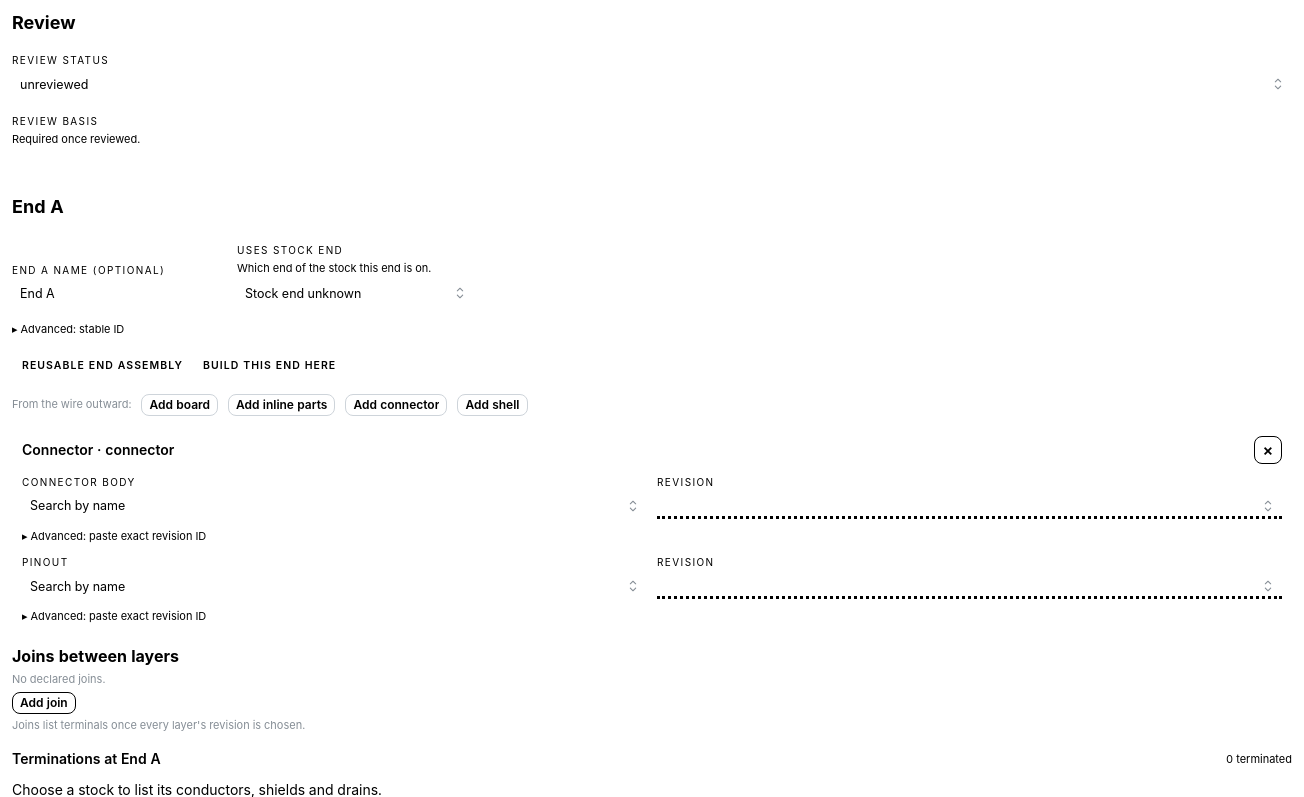
Test: cables: connector family filter narrows body choices by name, is marked and clearable
(page scrolled)
Press ArrowDown in the dropdown named "Endpoint 1 body definition", box [22,493,647,519]
(page scrolled)
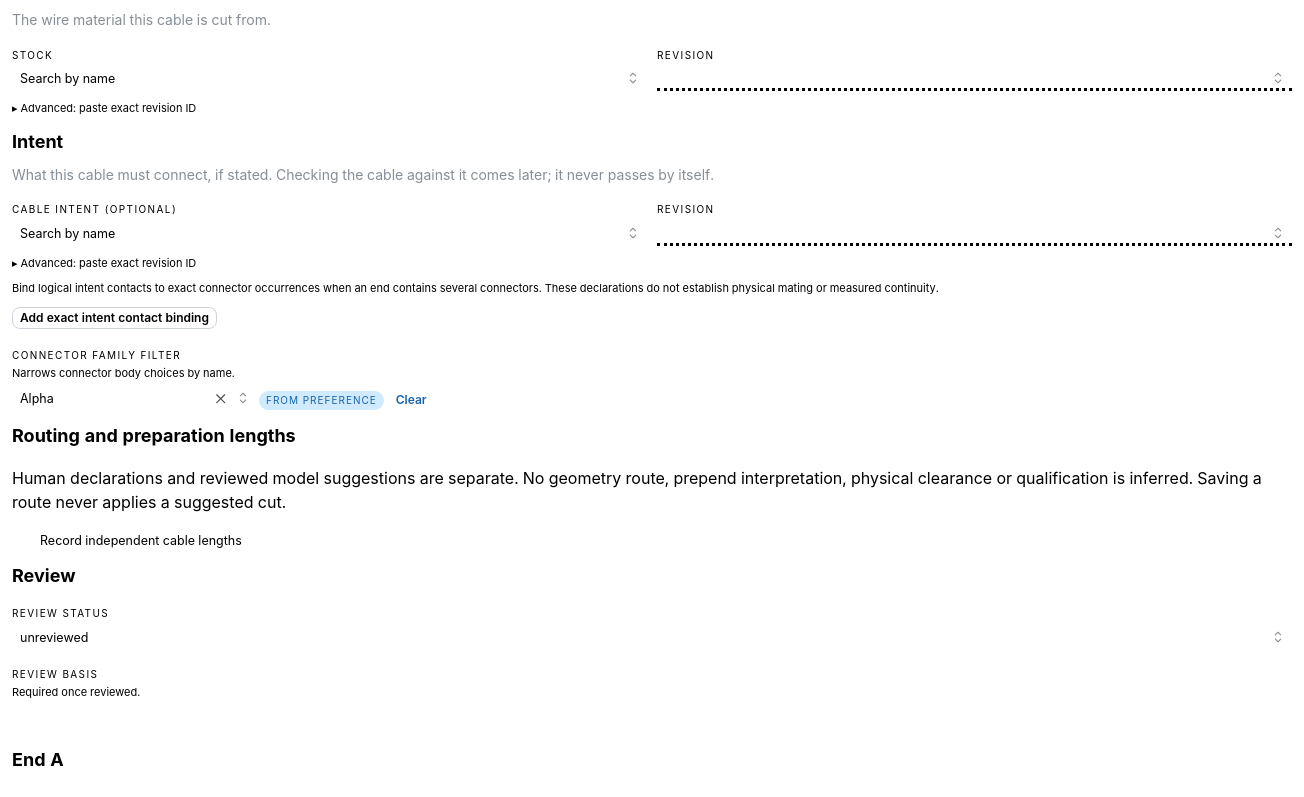
Expected: the text "Beta body" is not shown
Click the button with aria-label "Clear connector family filter preference". click: (411, 400)
box: [388,390,435,412]
(page scrolled)
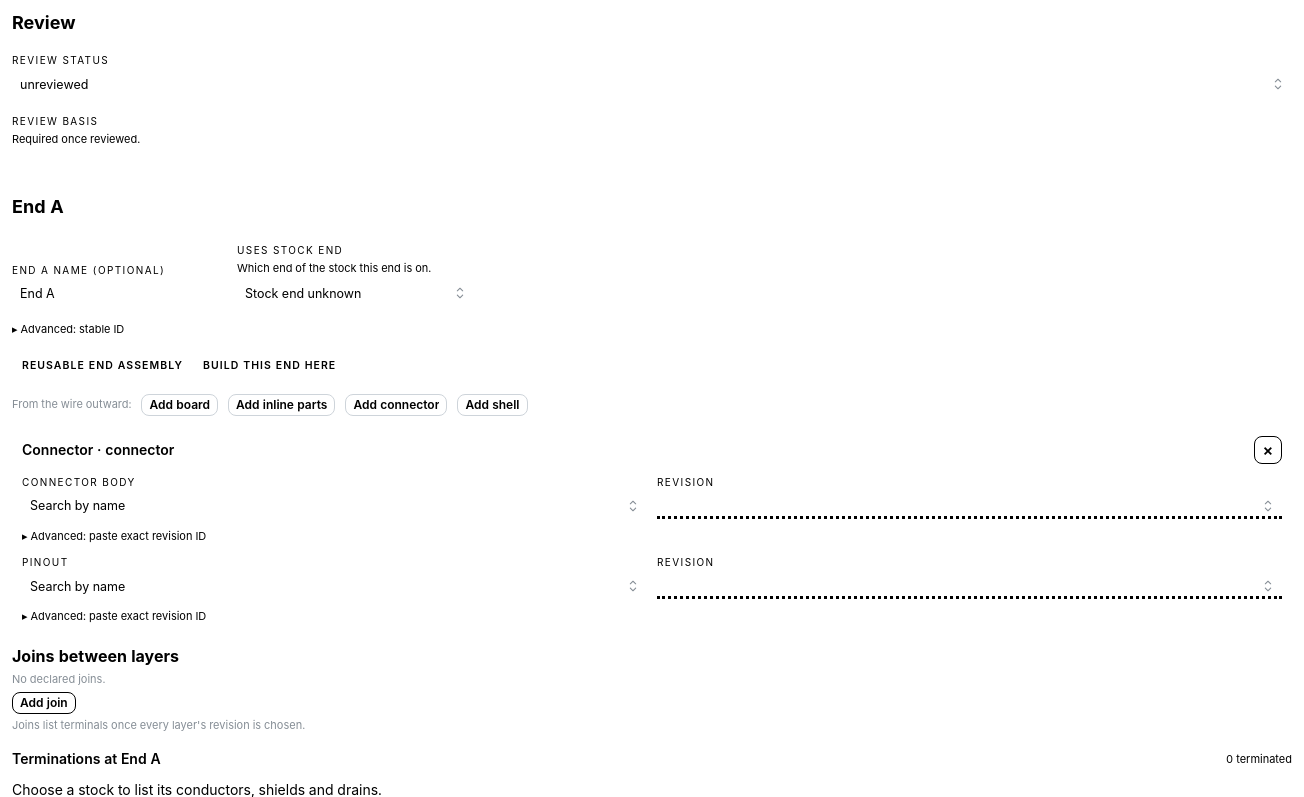
Press ArrowDown in the dropdown named "Endpoint 1 body definition", box [22,493,647,519]
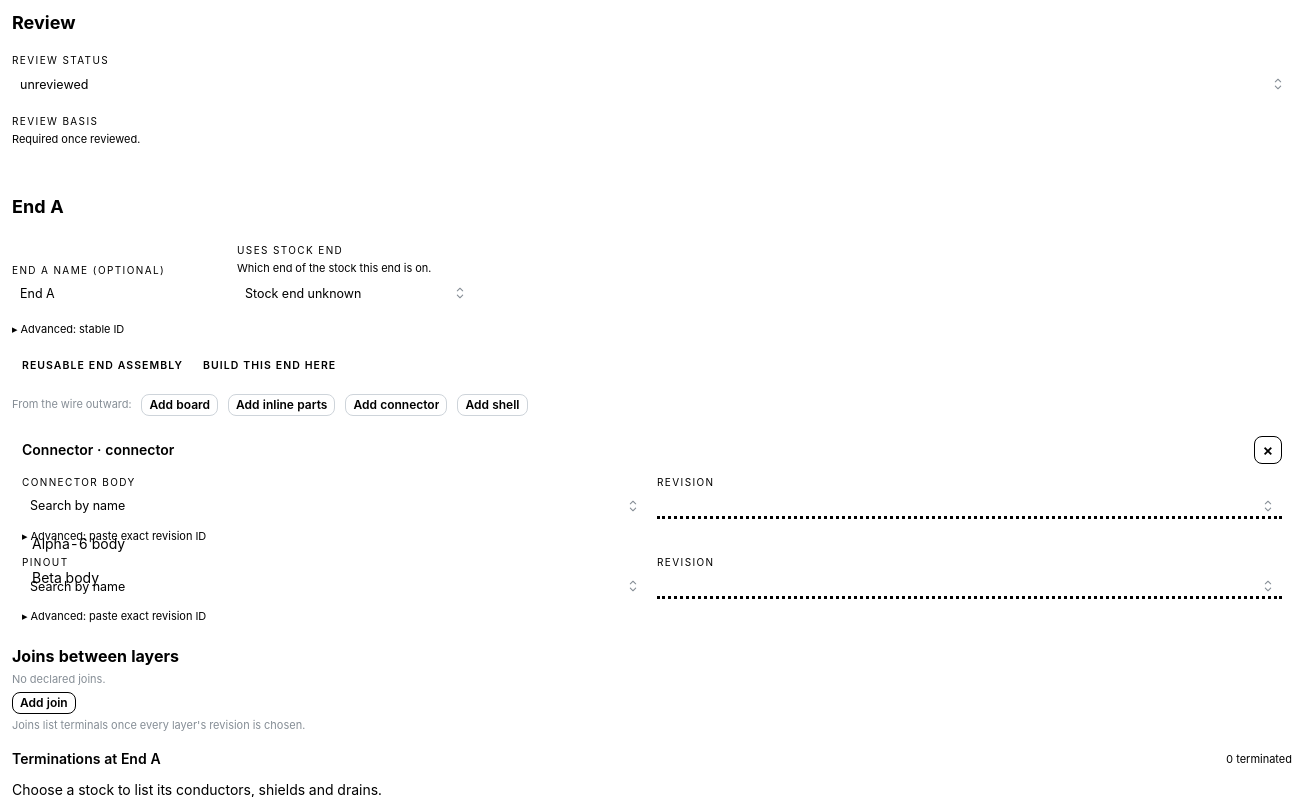
Expected: the text "Beta body" is shown, [32,567,99,588]
